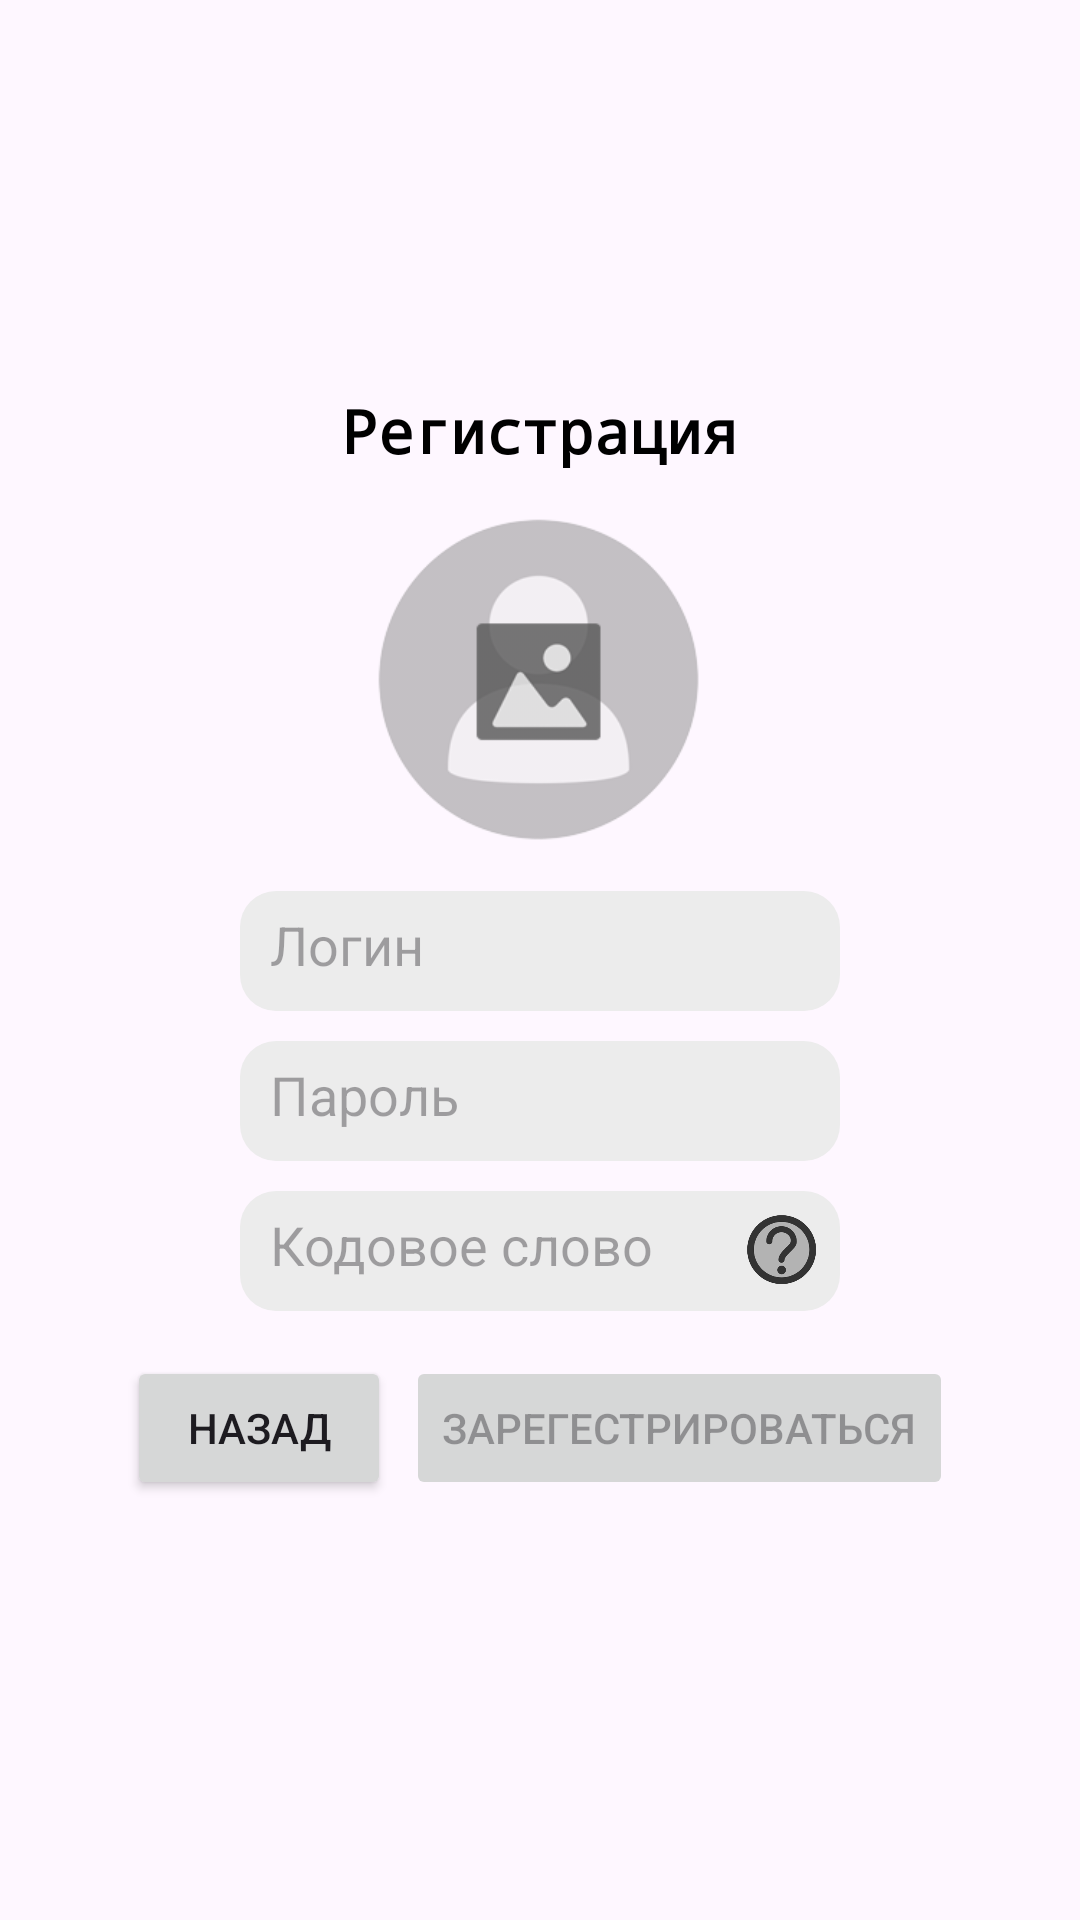

Screen size 1080*1920. Icon name, then its center in pixels as (x=x, y=y):
hint: (x=781, y=1249)
